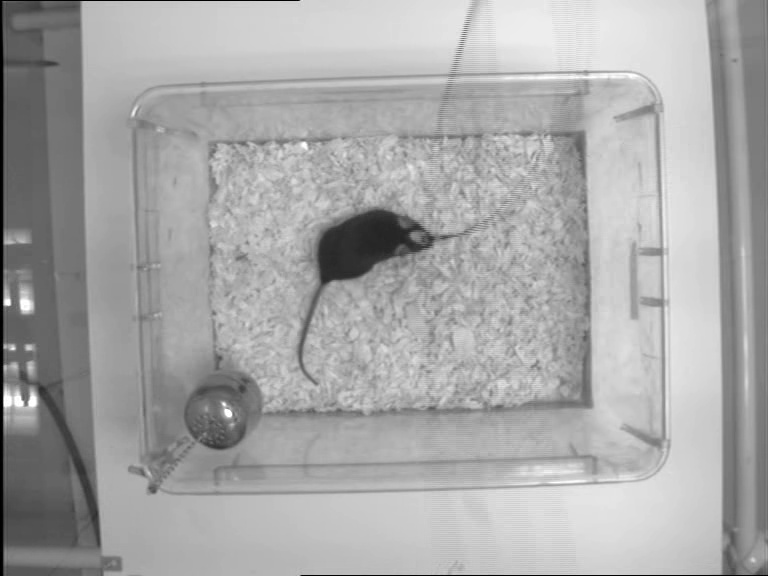mice: (294, 208, 433, 387)
